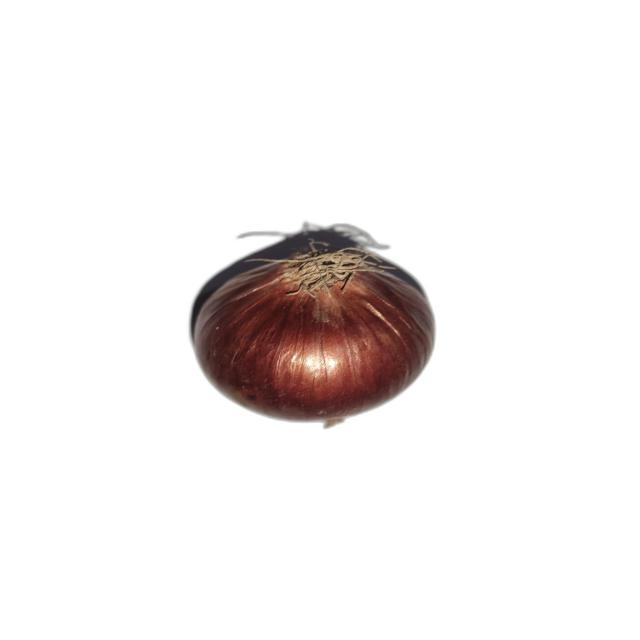onion: (194, 242, 436, 430)
